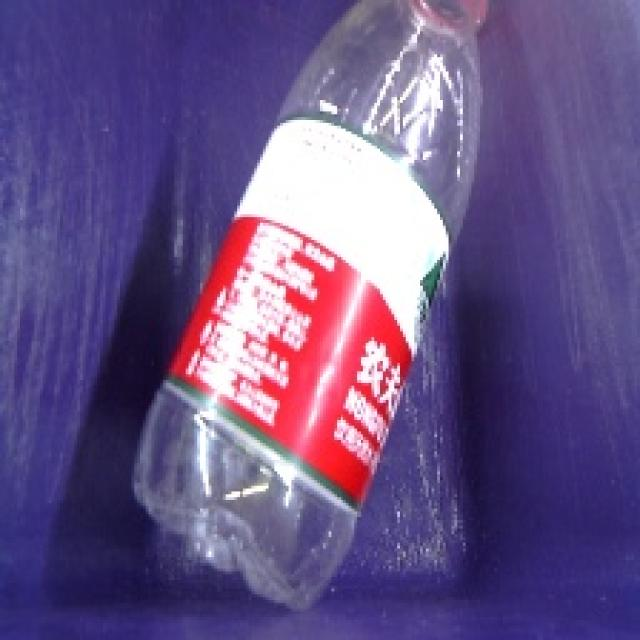plastic: (95, 0, 542, 619)
